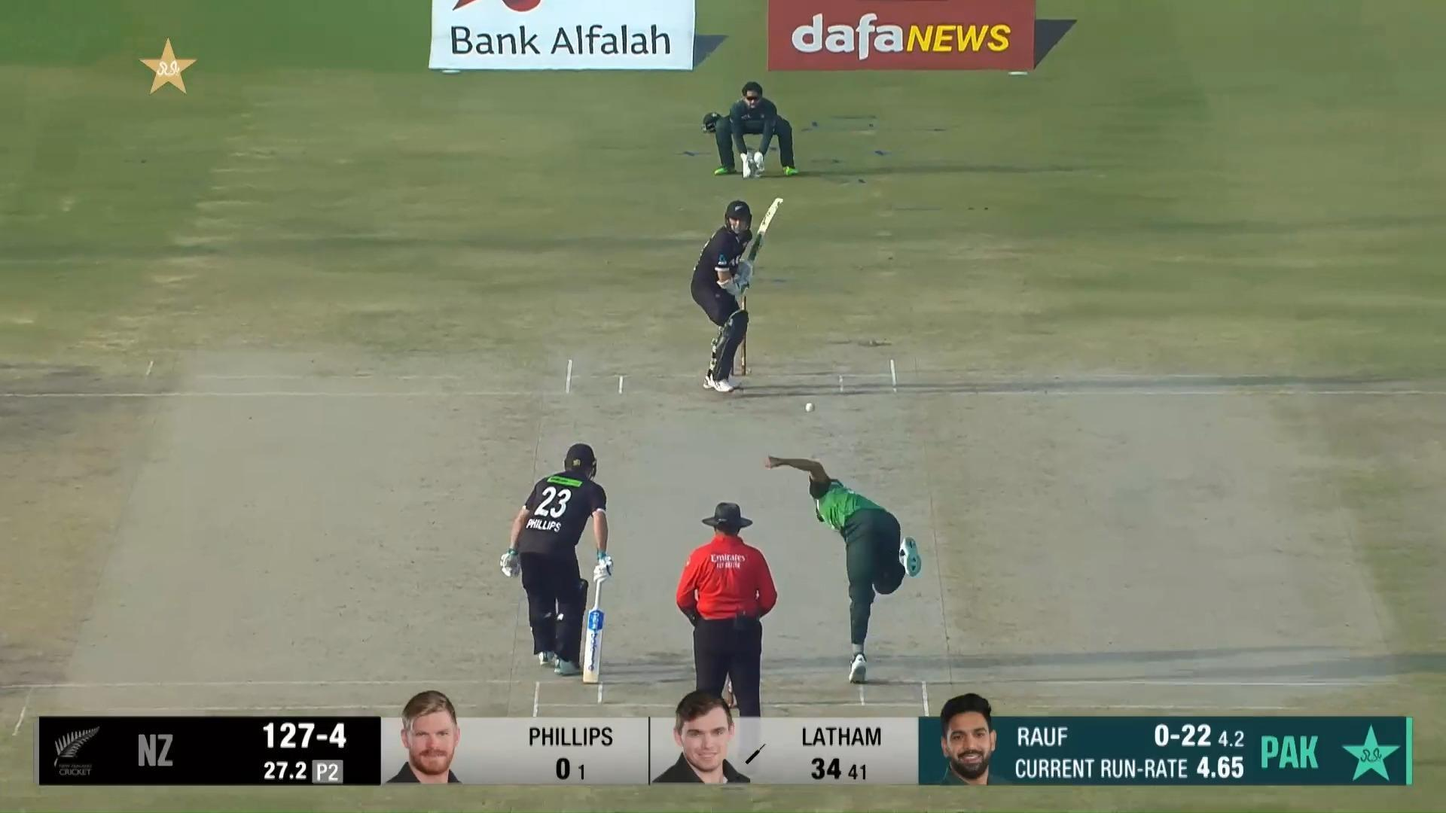BM 1: (691, 197, 784, 393)
BO: (765, 455, 922, 685)
